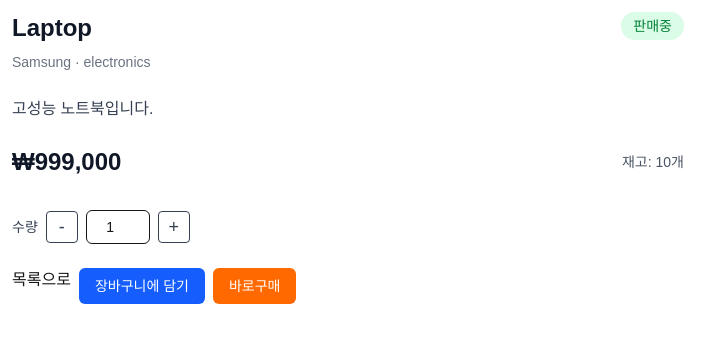
Test: ProductDetail › [-] 클릭 시 수량이 1 감소하고 1 미만이면 에러 메시지가 표시된다
Click the button named "수량 감소" at (62, 227), box [46, 211, 78, 243]
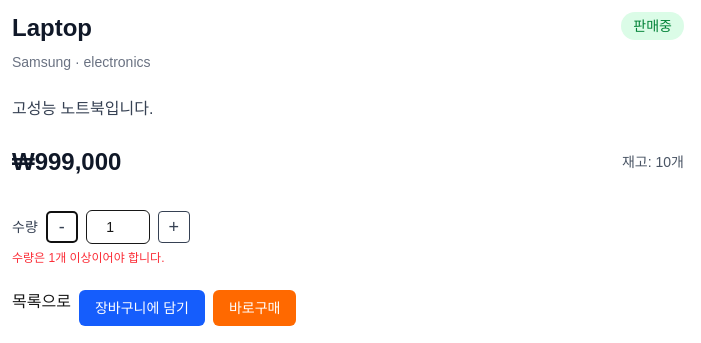
Check: the text "수량은 1개 이상이어야 합니다." is shown, box [12, 251, 164, 265]
